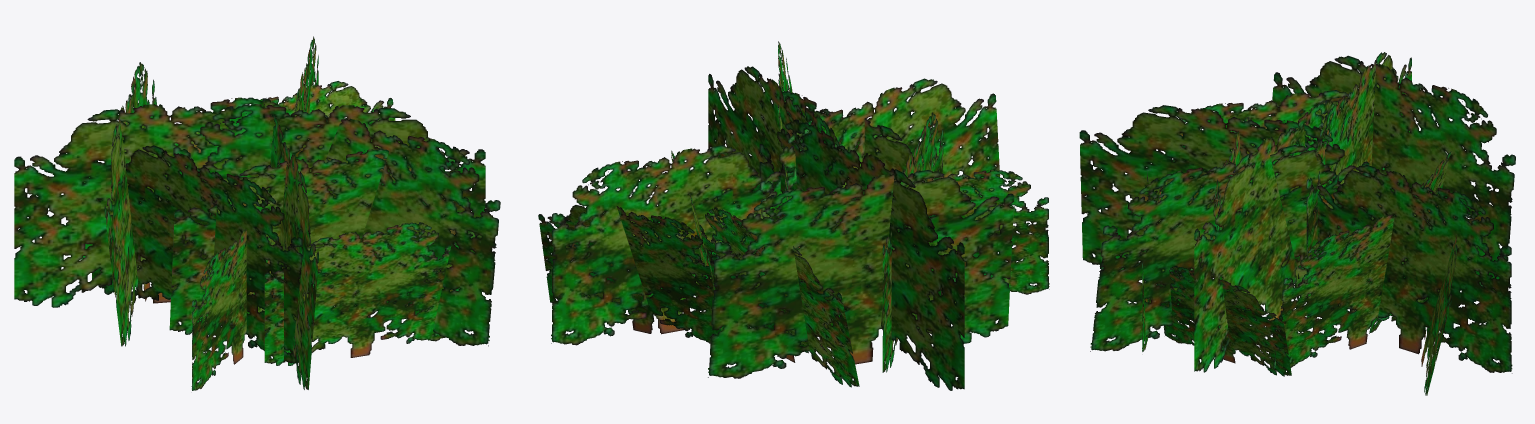
The model's file is grass1.glb.
The picture shows the model from 3 angles, left to right: view 1: azimuth 30°, elevation 25°; view 2: azimuth 150°, elevation 25°; view 3: azimuth 270°, elevation 25°; orthographic projection. The views are drawn at different scales.
Visible parts, largest first — view 1: default; view 2: default; view 3: default.
Part boxes in pixels (<box>): default: <box>14,36,500,390</box>; default: <box>538,41,1049,390</box>; default: <box>1079,52,1515,395</box>.
Bounding box in the file's own units: 1.16 × 0.5771 × 1.13.
1 material, 1 textured.
